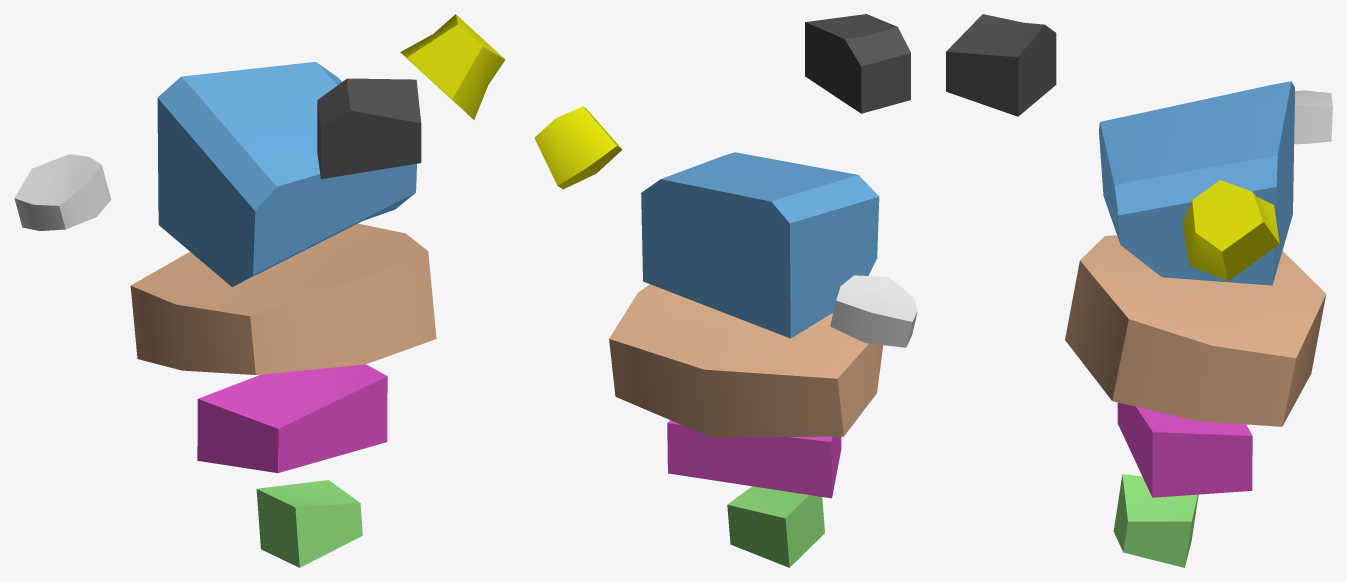
The model's file is enemy1 1.fbx.
3 renders of one model, left to right at view 1: azimuth 30°, elevation 25°; view 2: azimuth 150°, elevation 25°; view 3: azimuth 270°, elevation 25°, orthographic. The views are drawn at different scales.
Parts seen in each view (by area): view 1: Cube.002, Cube.007, Cube.008, Cube.006; view 2: Cube.002, Cube.007, Cube.008, Cube.006; view 3: Cube.002, Cube.007, Cube.006, Cube.008.
Part boxes in pixels (x1,y1,x2,y2): Cube.002: (130,62,436,567); Cube.007: (317,78,421,179); Cube.008: (14,154,111,230); Cube.006: (400,14,505,119); Cube.002: (609,152,883,567); Cube.007: (805,14,910,113); Cube.008: (830,275,917,347); Cube.006: (534,106,622,189); Cube.002: (1065,81,1326,567); Cube.007: (946,14,1056,116); Cube.006: (1182,180,1279,280); Cube.008: (1294,90,1332,144).
Size of the model in its own units: 178 by 198 by 133.
